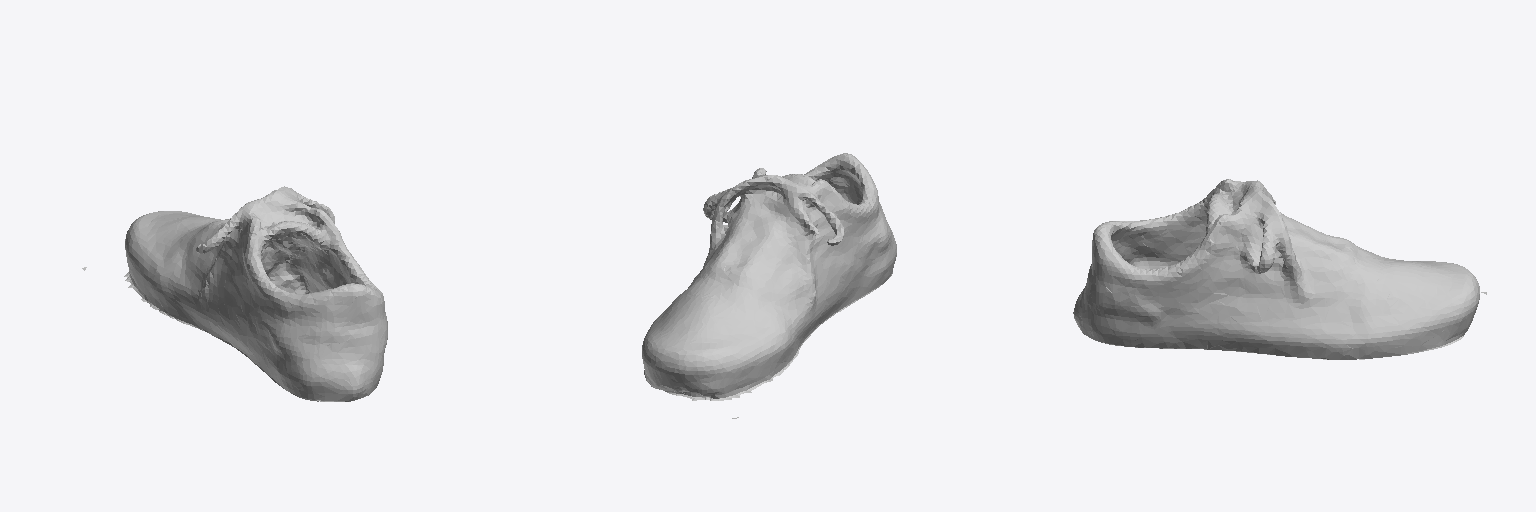
File: class5.obj
3 renders of one model, left to right at view 1: azimuth 30°, elevation 25°; view 2: azimuth 150°, elevation 25°; view 3: azimuth 270°, elevation 25°, orthographic.
Parts seen in each view (by area): view 1: Mesh_0.010; view 2: Mesh_0.010; view 3: Mesh_0.010.
Boxes of the visible parts, x1,y1,x2,y2 form: Mesh_0.010: [82, 186, 387, 401]; Mesh_0.010: [642, 153, 896, 418]; Mesh_0.010: [1073, 179, 1486, 359].
Bounding box in the file's own units: 0.1128 × 0.1071 × 0.2838.